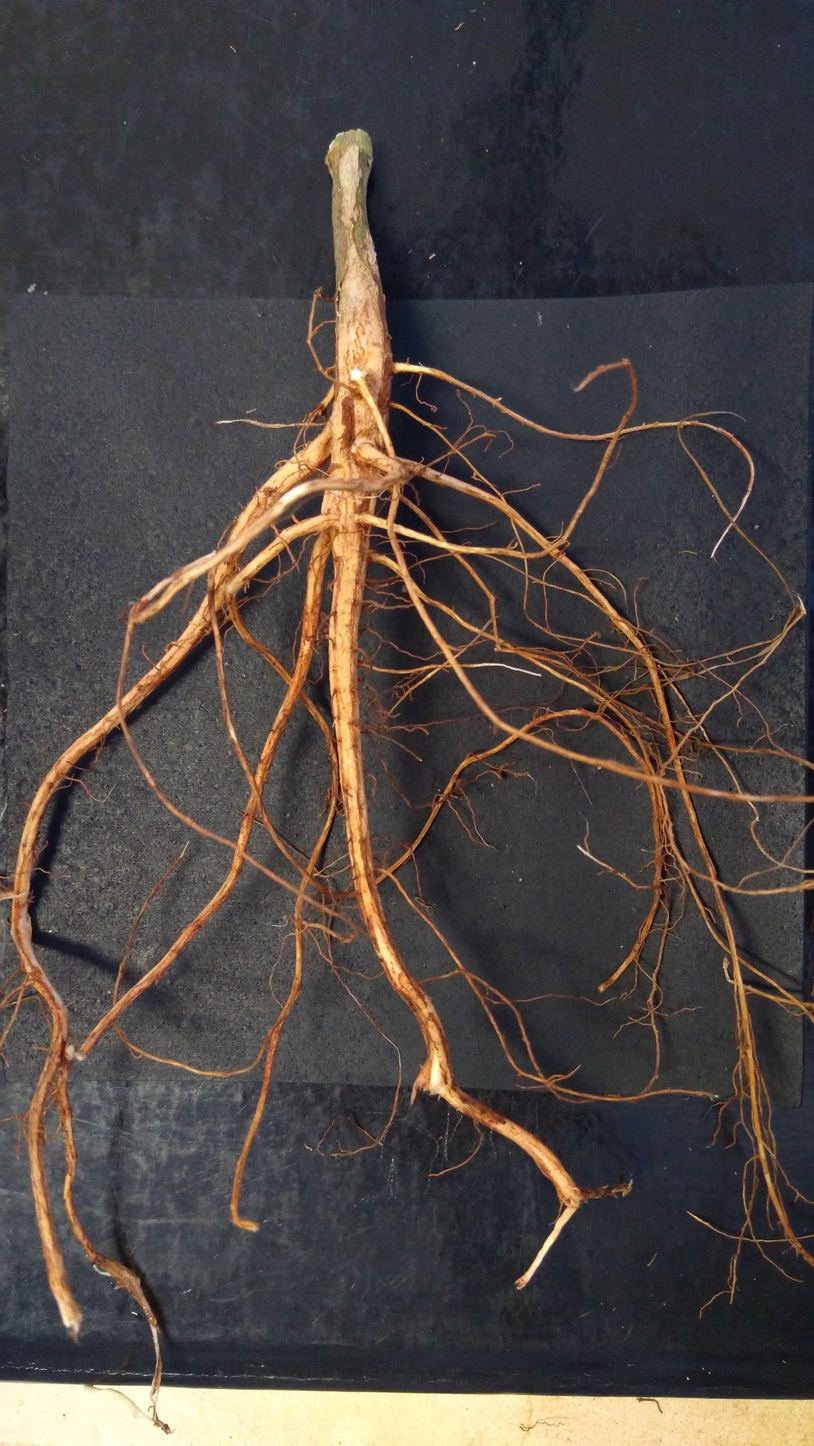nodule: (63, 1044, 76, 1061), (320, 612, 331, 627), (325, 366, 332, 376), (401, 585, 408, 593), (455, 778, 461, 786), (308, 411, 314, 418), (318, 410, 322, 416)
